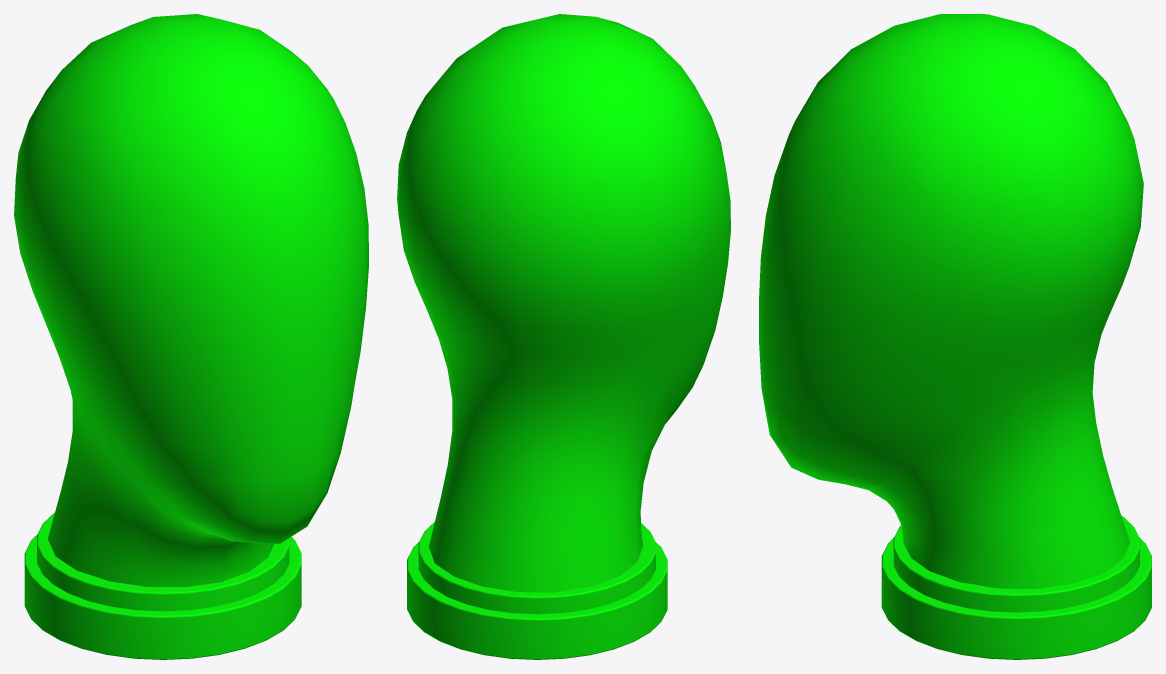
File: showroom_stand_hat.fbx
The picture shows the model from 3 angles, left to right: view 1: azimuth 30°, elevation 25°; view 2: azimuth 150°, elevation 25°; view 3: azimuth 270°, elevation 25°; orthographic projection. The views are drawn at different scales.
Visible parts, largest first — view 1: showroom_stand_hat; view 2: showroom_stand_hat; view 3: showroom_stand_hat.
Boxes of the visible parts, left/top/right/bottom form: showroom_stand_hat: left=14, top=14, right=368, bottom=659; showroom_stand_hat: left=397, top=14, right=730, bottom=659; showroom_stand_hat: left=759, top=14, right=1151, bottom=659.
Size of the model in its own units: 14.22 by 27 by 16.7.
